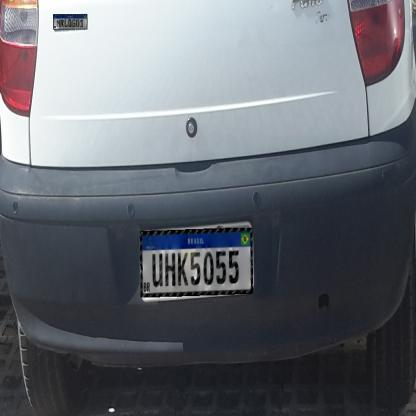PlacaM: (140, 228, 253, 297), (53, 14, 87, 30)
